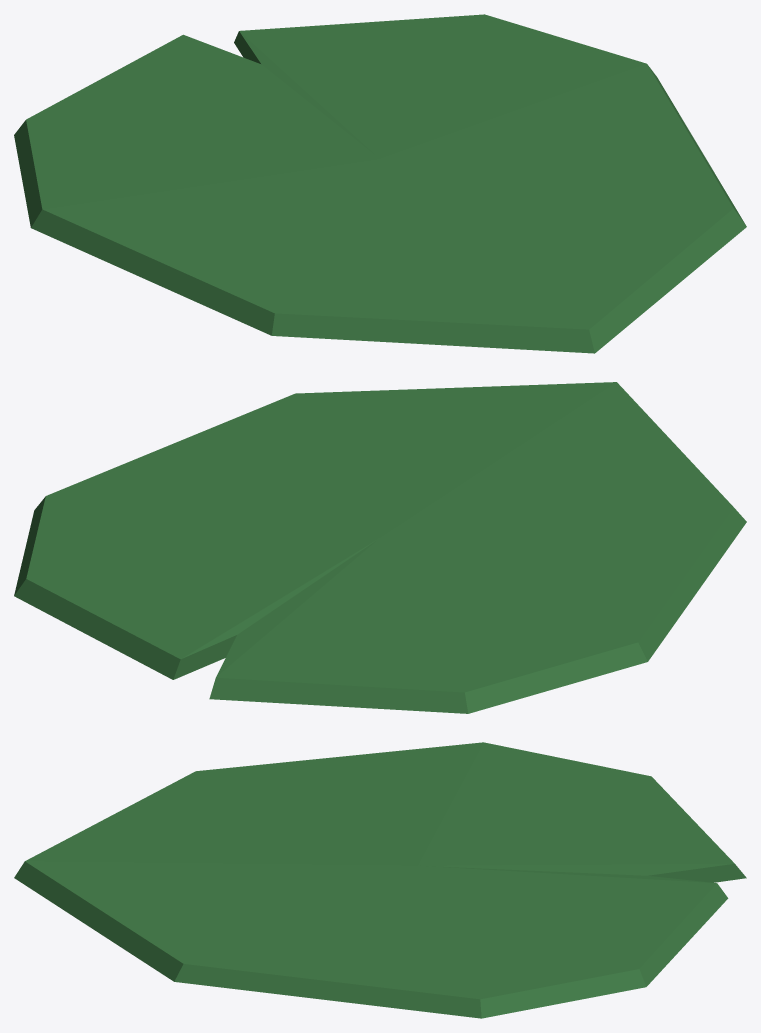
File: Lili_Single Asia.fbx
3 views of the same model, one above another, from view 1: azimuth 30°, elevation 25°; view 2: azimuth 150°, elevation 25°; view 3: azimuth 270°, elevation 25° (orthographic). The views are drawn at different scales.
Visible parts, largest first — view 1: Lili_Single; view 2: Lili_Single; view 3: Lili_Single.
Boxes of the visible parts, x1=… form: Lili_Single: x1=14, y1=14, x2=746, y2=353; Lili_Single: x1=14, y1=382, x2=746, y2=713; Lili_Single: x1=14, y1=742, x2=746, y2=1018.
Bounding box in the file's own units: 0.3037 × 0.0101 × 0.3534.
